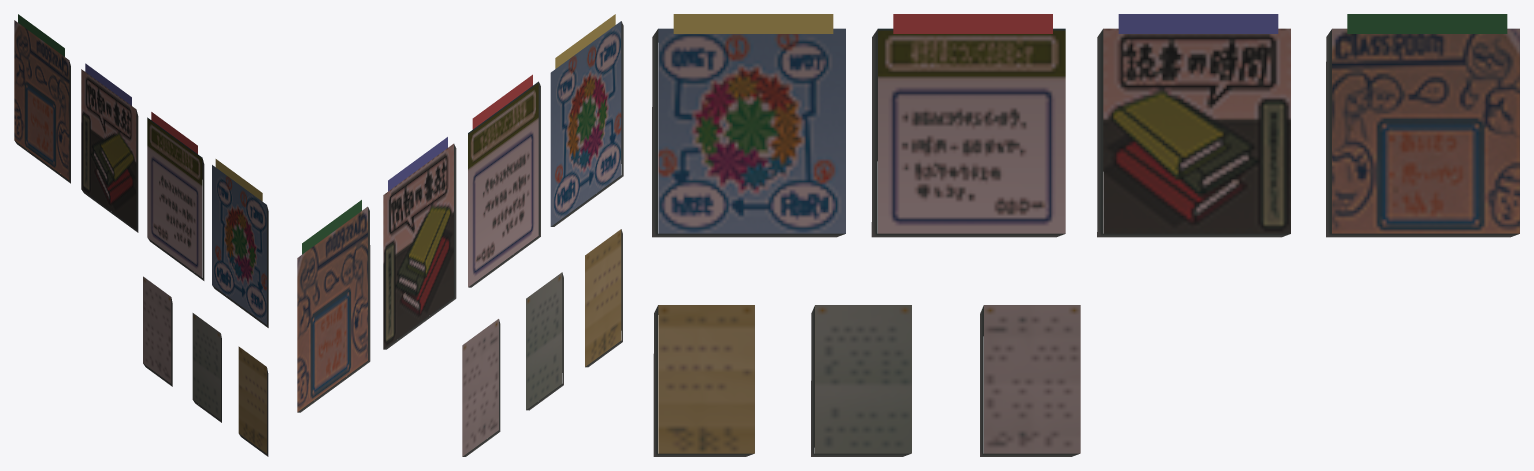
The model's file is HW_infoBEve.FBX.
3 renders of one model, left to right at view 1: azimuth 30°, elevation 25°; view 2: azimuth 150°, elevation 25°; view 3: azimuth 270°, elevation 25°, orthographic. The views are drawn at different scales.
Visible parts, largest first — view 1: HW_infoB_eve00; view 2: HW_infoB_eve00; view 3: HW_infoB_eve00.
Boxes of the visible parts, left/top/right/bottom form: HW_infoB_eve00: left=14, top=14, right=268, bottom=456; HW_infoB_eve00: left=297, top=14, right=623, bottom=456; HW_infoB_eve00: left=652, top=14, right=1519, bottom=456.
Bounding box in the file's own units: 0.0536 × 123 × 219.
